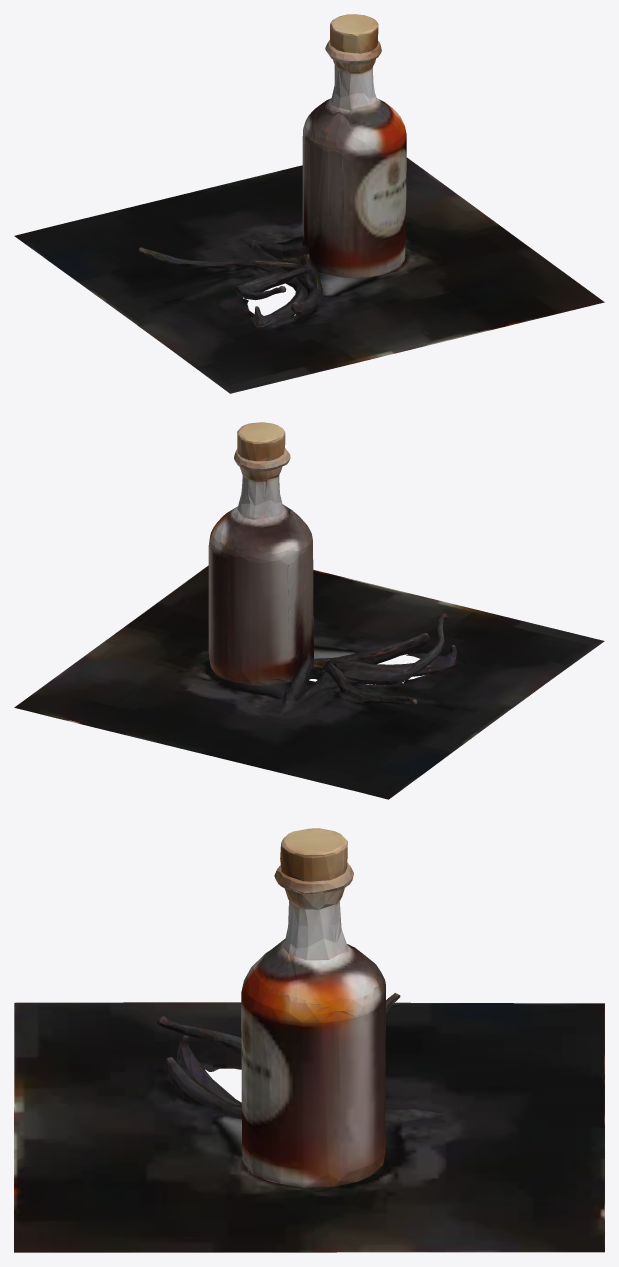
The model's file is vanilla.glb.
3 renders of one model, top to bottom at view 1: azimuth 30°, elevation 25°; view 2: azimuth 150°, elevation 25°; view 3: azimuth 270°, elevation 25°, orthographic. The views are drawn at different scales.
Parts seen in each view (by area): view 1: geometry_0; view 2: geometry_0; view 3: geometry_0.
Part boxes in pixels (left/top/right/bottom): geometry_0: left=14, top=14, right=604, bottom=393; geometry_0: left=14, top=422, right=604, bottom=799; geometry_0: left=14, top=828, right=604, bottom=1252.
Size of the model in its own units: 1 by 0.6262 by 1.
1 material, 1 textured.
